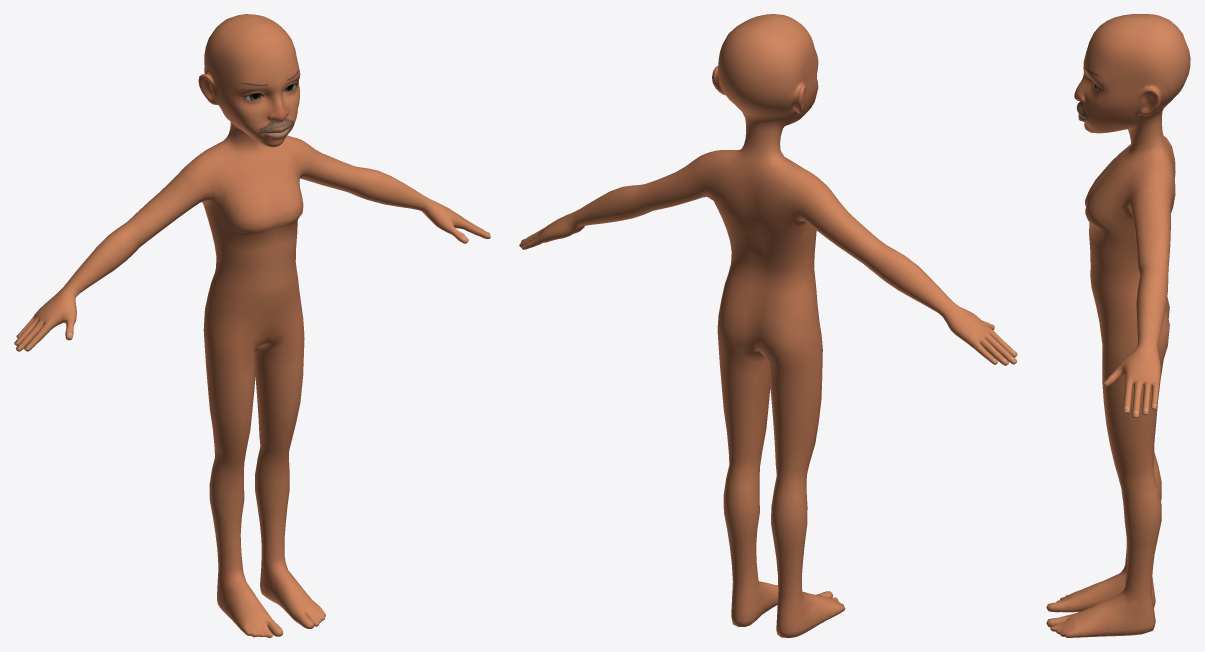
The model's file is frame_0078.glb.
The picture shows the model from 3 angles, left to right: view 1: azimuth 30°, elevation 25°; view 2: azimuth 150°, elevation 25°; view 3: azimuth 270°, elevation 25°; orthographic projection. The views are drawn at different scales.
Parts seen in each view (by area): view 1: frame_0078_head_geo; view 2: frame_0078_head_geo; view 3: frame_0078_head_geo.
Part boxes in pixels (box(x1,y1,x2,y2)): frame_0078_head_geo: box(14, 14, 490, 637); frame_0078_head_geo: box(519, 14, 1017, 637); frame_0078_head_geo: box(1046, 14, 1190, 637).
Size of the model in its own units: 1.28 by 1.5 by 0.3253.
Materials: 3 (3 with a texture image).
